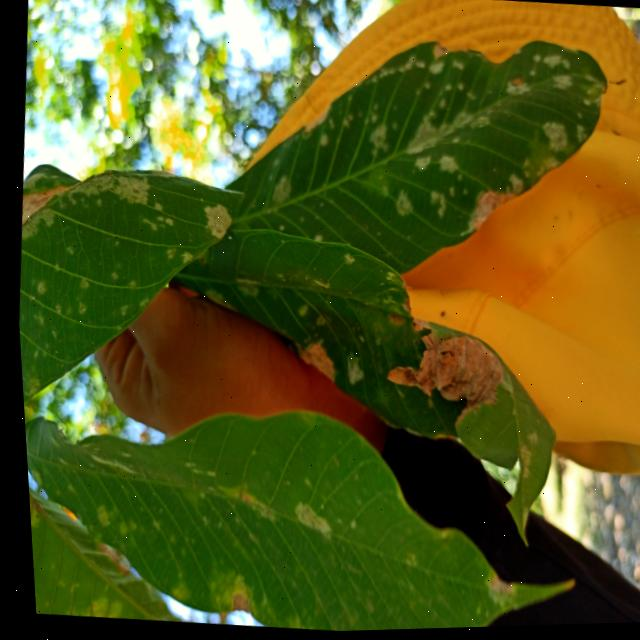Leaf-Blight: (373, 317, 502, 426), (16, 183, 67, 229), (463, 191, 512, 238), (291, 345, 333, 385)
